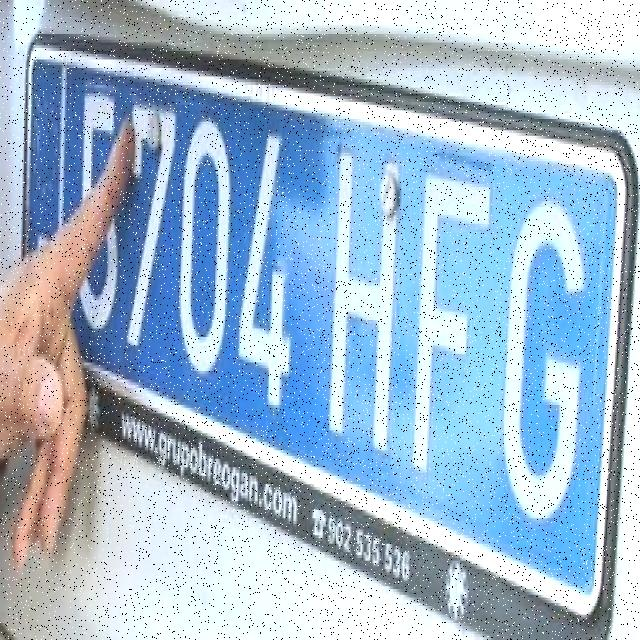licenseplate: (22, 28, 636, 640)
